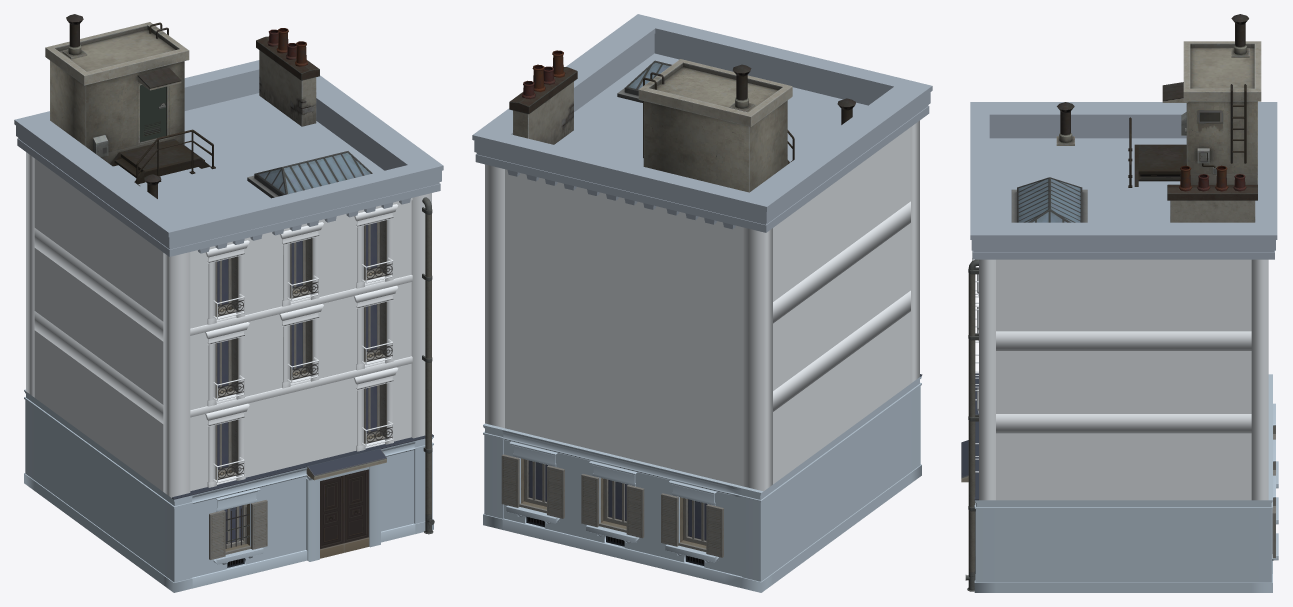
File: t1_b_tenant_building.glb
3 renders of one model, left to right at view 1: azimuth 30°, elevation 25°; view 2: azimuth 150°, elevation 25°; view 3: azimuth 270°, elevation 25°, orthographic. The views are drawn at different scales.
Visible parts, largest first — view 1: um_t1_b_tenaunt_building_model_t1_b_tenaunt_building_modelSh; view 2: um_t1_b_tenaunt_building_model_t1_b_tenaunt_building_modelSh; view 3: um_t1_b_tenaunt_building_model_t1_b_tenaunt_building_modelSh.
Part boxes in pixels (x1,y1,x2,y2): um_t1_b_tenaunt_building_model_t1_b_tenaunt_building_modelSh: (14, 14, 443, 592); um_t1_b_tenaunt_building_model_t1_b_tenaunt_building_modelSh: (472, 14, 932, 592); um_t1_b_tenaunt_building_model_t1_b_tenaunt_building_modelSh: (961, 14, 1278, 592).
Size of the model in its own units: 7.4 by 12.16 by 7.45.
10 materials, 7 textured.
